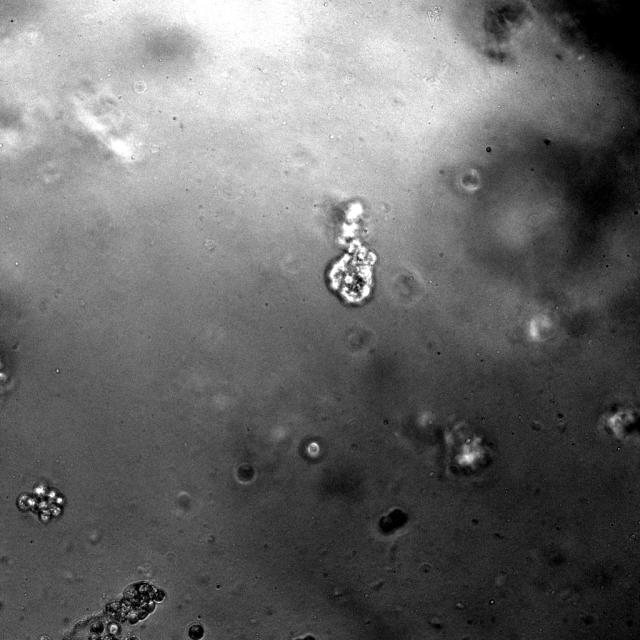organoid: (326, 200, 377, 306), (103, 581, 166, 625), (16, 480, 64, 523), (236, 464, 255, 482), (187, 623, 204, 639)
